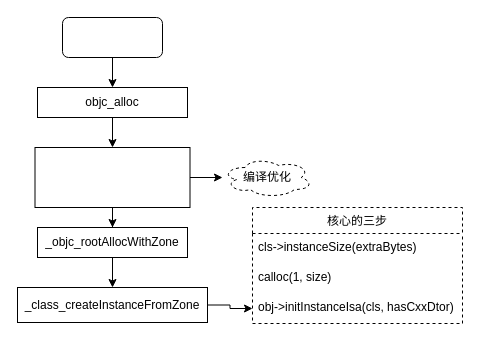
The diagram is 480 pixels wide and 344 high, and some of its shapes have lost their labels. Here are the shapes that lost their labels. From the top down, the centre of each, then its label:
At pixel 112 37: "alloc".
At pixel 112 177: "callAlloc".
